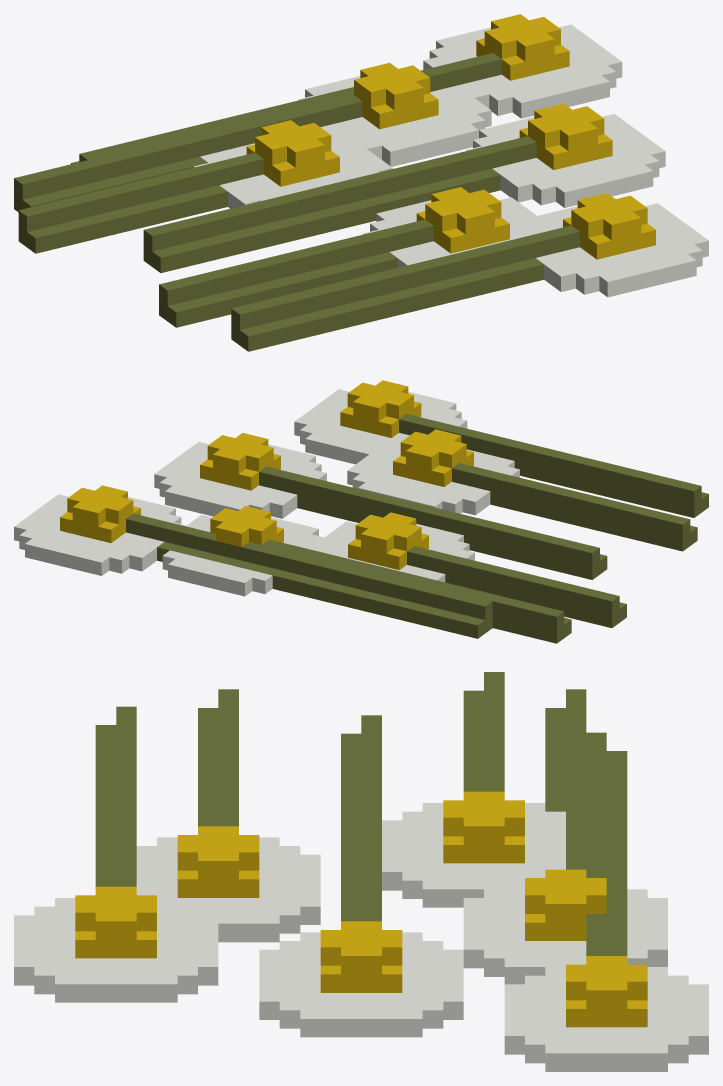
Rendered from chamomile.glb.
The picture shows the model from 3 angles, top to bottom: view 1: azimuth 30°, elevation 25°; view 2: azimuth 150°, elevation 25°; view 3: azimuth 270°, elevation 25°; orthographic projection. The views are drawn at different scales.
Visible parts, largest first — view 1: chamomile:compound; view 2: chamomile:compound; view 3: chamomile:compound.
Part boxes in pixels (x1,y1,x2,y2): chamomile:compound: (14,14,708,351); chamomile:compound: (14,380,708,643); chamomile:compound: (14,672,708,1071).
Size of the model in its own units: 0.084 by 0.006 by 0.068.
